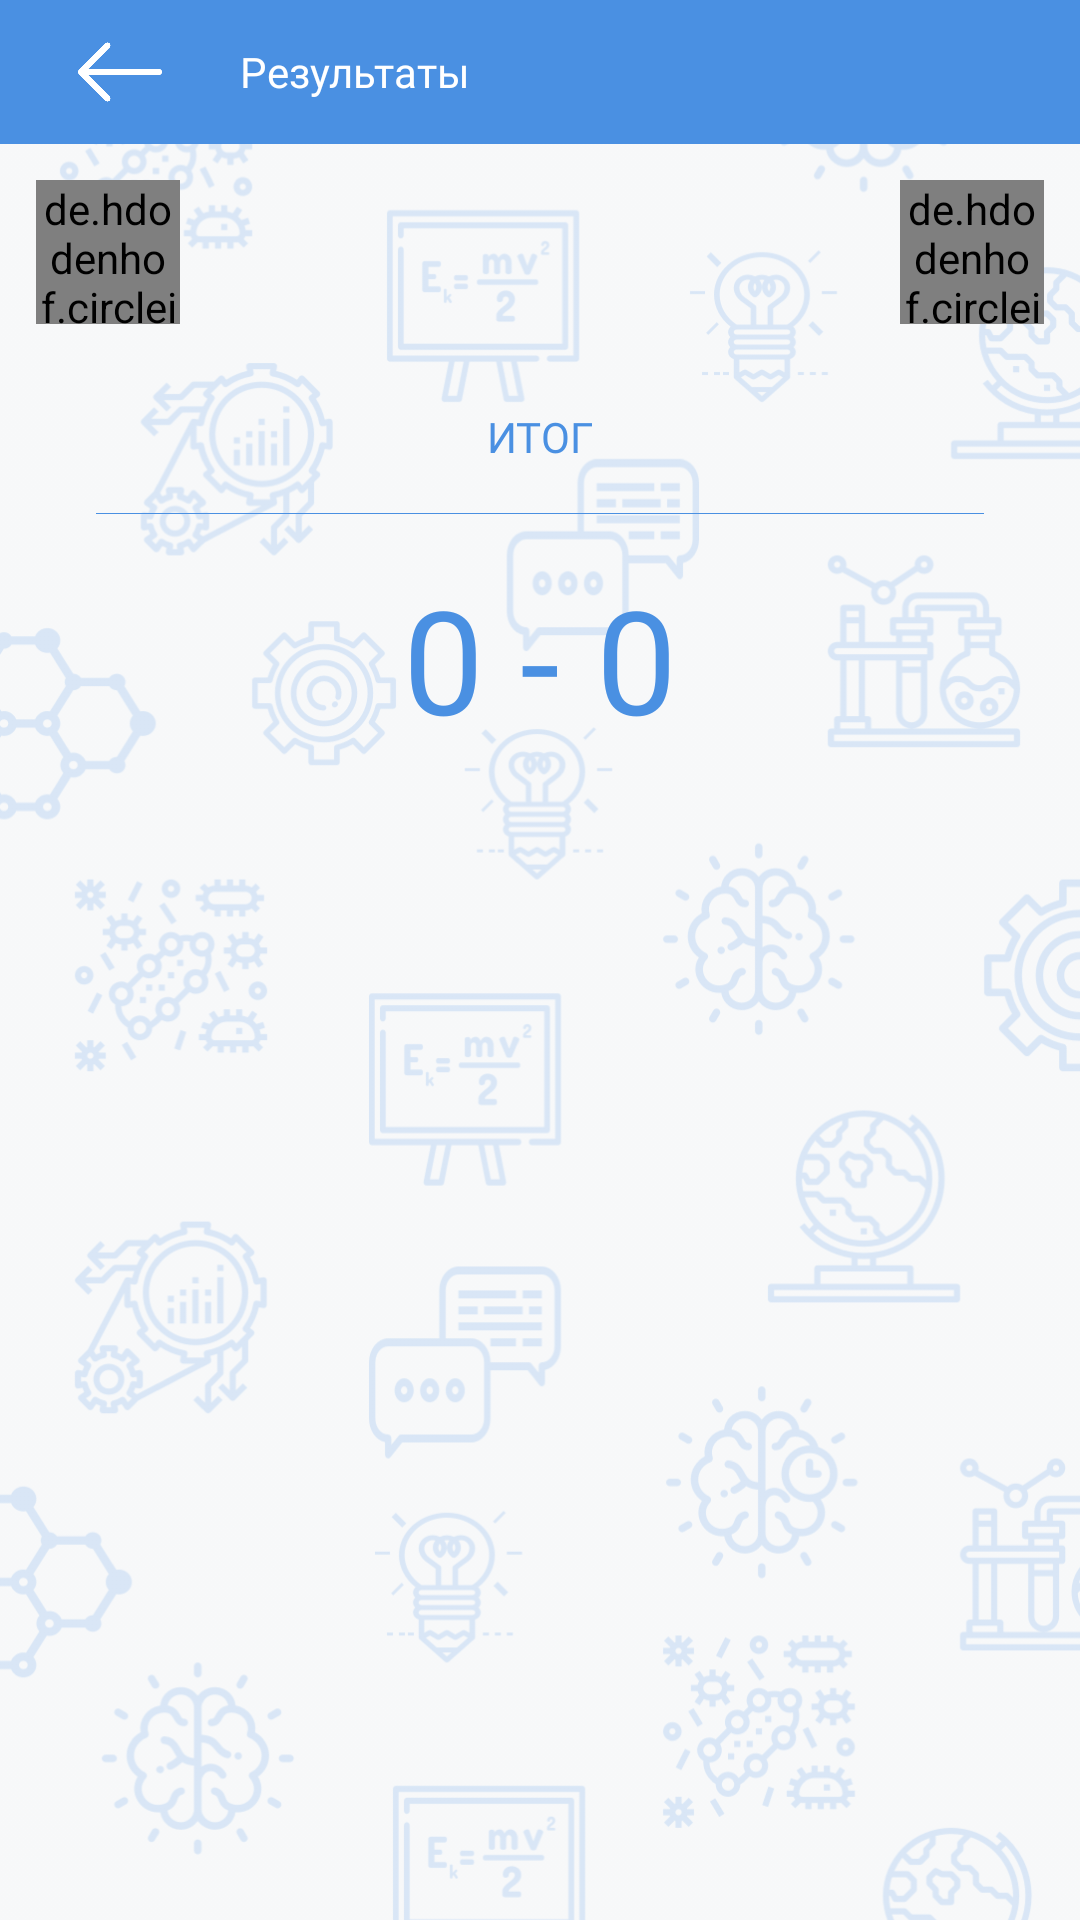

Where to tap for icons on this 1080 × 1920 app screen, as (x,y):
back: (120,72)
